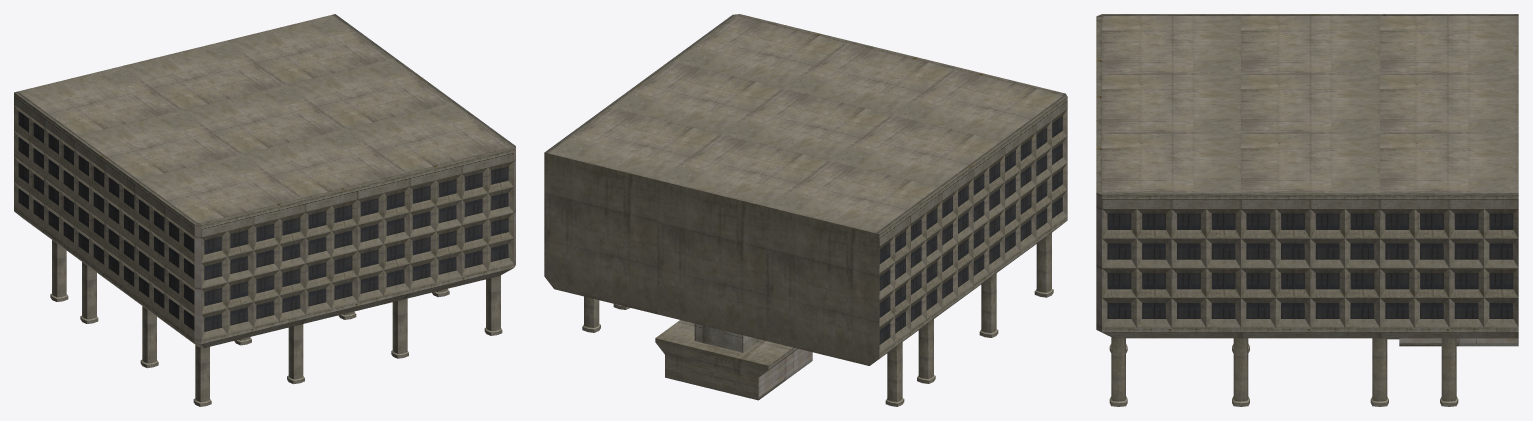
File: brutal.glb
3 renders of one model, left to right at view 1: azimuth 30°, elevation 25°; view 2: azimuth 150°, elevation 25°; view 3: azimuth 270°, elevation 25°, orthographic. The views are drawn at different scales.
Parts seen in each view (by area): view 1: brutal; view 2: brutal; view 3: brutal.
Boxes of the visible parts, left/top/right/bottom form: brutal: left=14, top=14, right=515, bottom=406; brutal: left=544, top=14, right=1067, bottom=406; brutal: left=1096, top=14, right=1518, bottom=406.
Size of the model in its own units: 39.22 by 21.89 by 38.69.
Materials: 2 (2 with a texture image).
